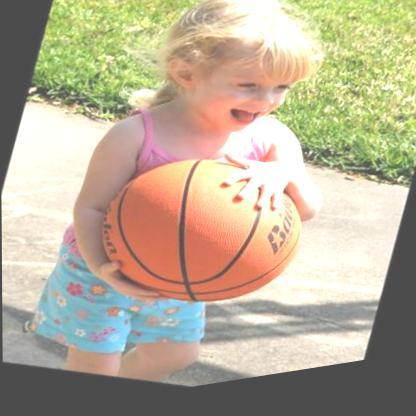basketball: (80, 125, 321, 349)
